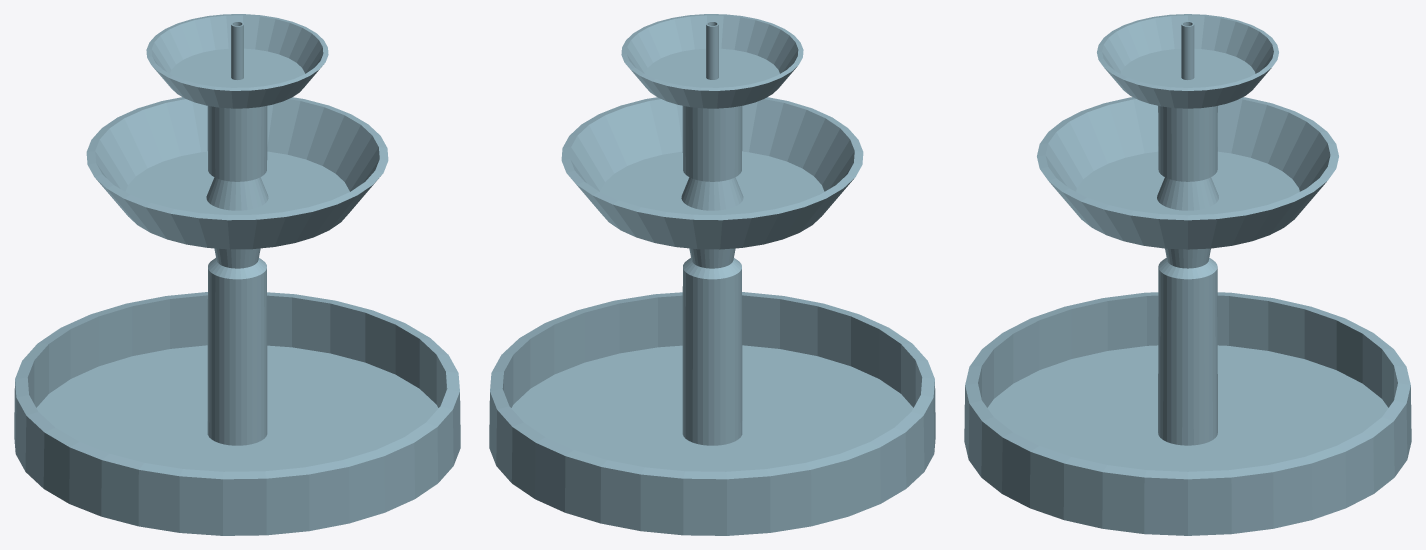
File: Fountain.fbx
3 views of the same model, side by side, from view 1: azimuth 30°, elevation 25°; view 2: azimuth 150°, elevation 25°; view 3: azimuth 270°, elevation 25° (orthographic).
Parts seen in each view (by area): view 1: Big Bowl, Medium Bowl, Small Bowl, Bottom Pipe, Medium Pipe, Exit Pipe; view 2: Big Bowl, Medium Bowl, Small Bowl, Bottom Pipe, Medium Pipe, Exit Pipe; view 3: Big Bowl, Medium Bowl, Small Bowl, Bottom Pipe, Medium Pipe, Exit Pipe.
Part boxes in pixels (x1=…): Big Bowl: x1=14, y1=292, x2=460, y2=535; Medium Bowl: x1=86, y1=97, x2=388, y2=249; Small Bowl: x1=146, y1=14, x2=328, y2=108; Bottom Pipe: x1=207, y1=248, x2=267, y2=445; Medium Pipe: x1=206, y1=106, x2=268, y2=210; Exit Pipe: x1=231, y1=21, x2=243, y2=79; Big Bowl: x1=489, y1=292, x2=935, y2=535; Medium Bowl: x1=561, y1=97, x2=863, y2=249; Small Bowl: x1=621, y1=14, x2=803, y2=108; Bottom Pipe: x1=682, y1=248, x2=742, y2=445; Medium Pipe: x1=681, y1=106, x2=743, y2=210; Exit Pipe: x1=706, y1=21, x2=718, y2=79; Big Bowl: x1=964, y1=292, x2=1411, y2=535; Medium Bowl: x1=1037, y1=97, x2=1338, y2=249; Small Bowl: x1=1097, y1=14, x2=1278, y2=108; Bottom Pipe: x1=1158, y1=248, x2=1217, y2=445; Medium Pipe: x1=1157, y1=106, x2=1218, y2=210; Exit Pipe: x1=1181, y1=21, x2=1194, y2=79.
Size of the model in its own units: 363 by 374 by 363.
